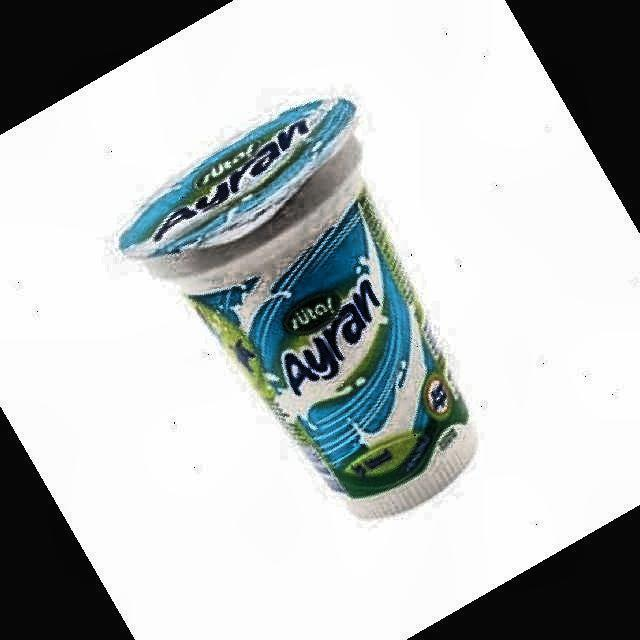plastic: (120, 99, 475, 517)
